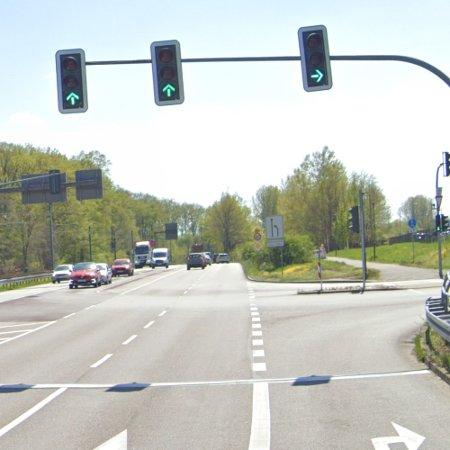traffic lights: (150, 39, 184, 107), (298, 26, 332, 91), (56, 49, 86, 114)
